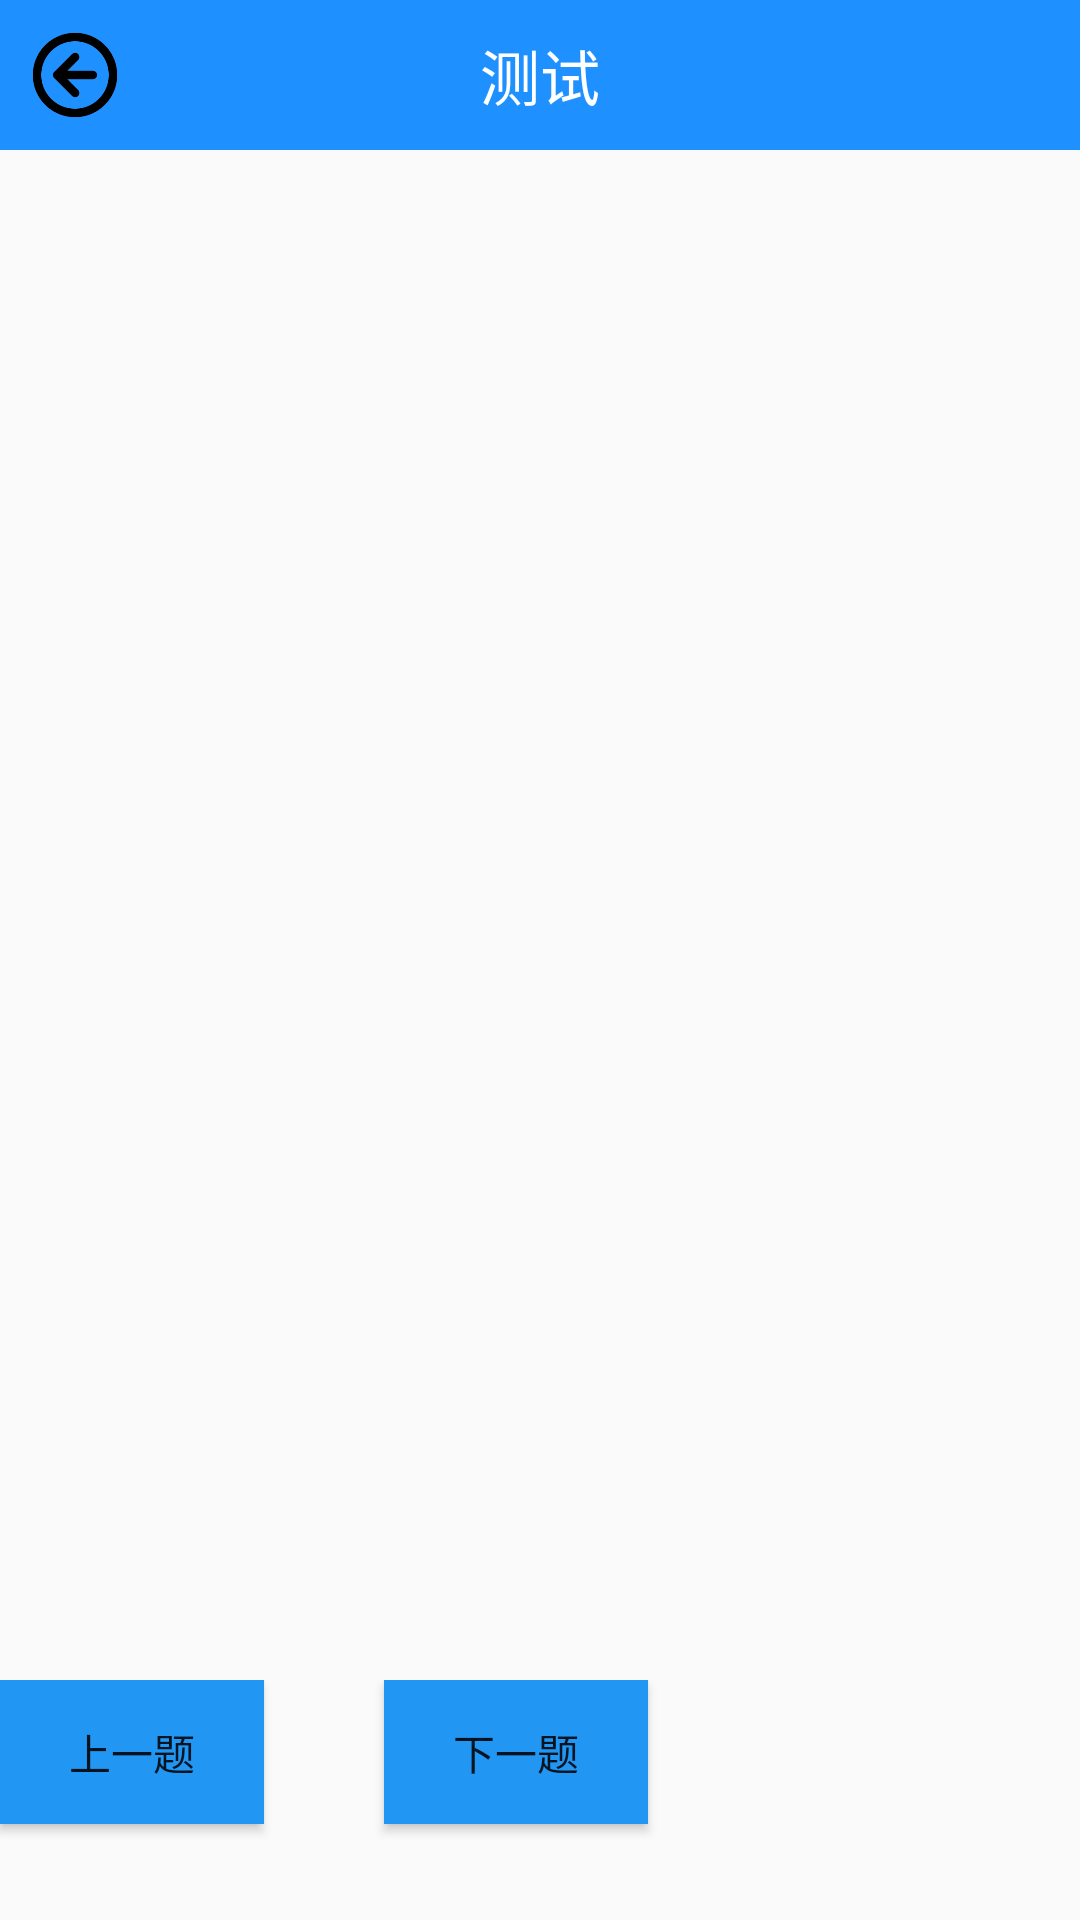

Locate icon controls on the screen. Image size 1080*1920, boxes as (x1, y1, x2, y2).
fanhui: (33, 33, 117, 117)
